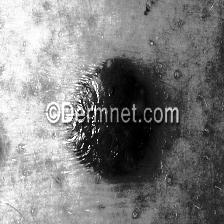Benign Marking or Mole: (69, 57, 147, 166)
